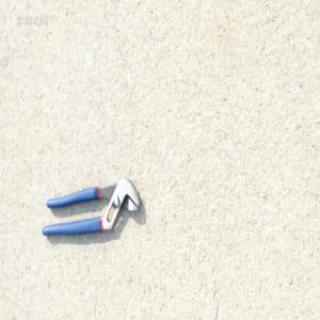Pliertrack_idkeyframe: (39, 174, 141, 238)
